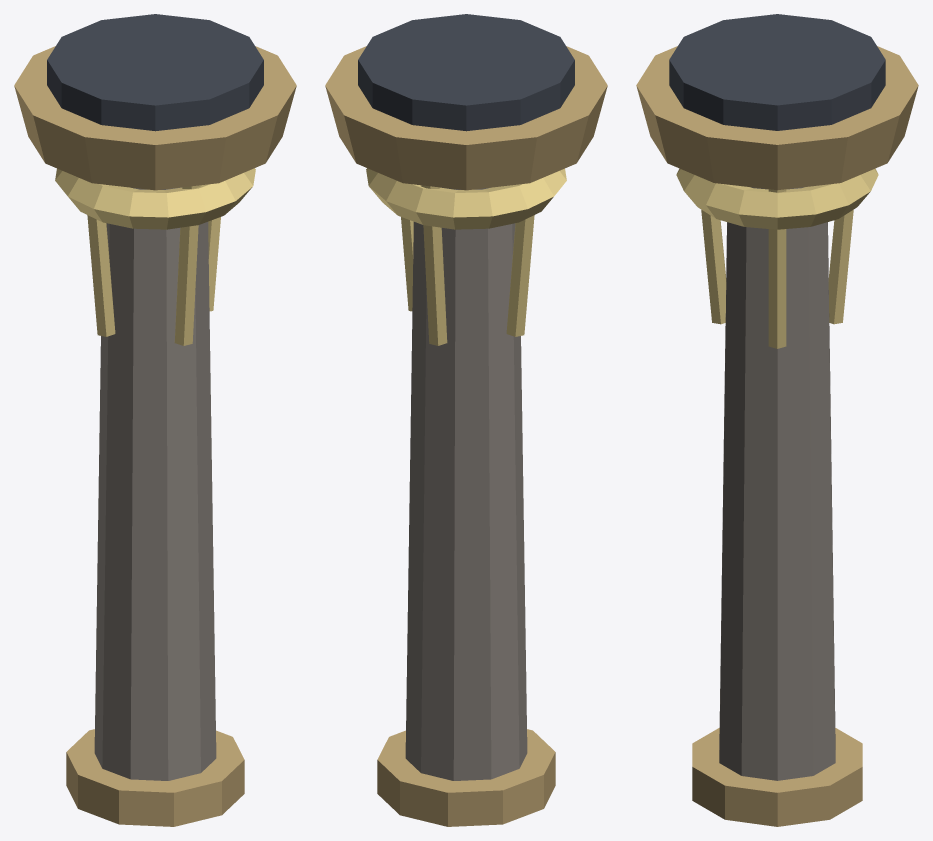
File: antorcha.glb
3 views of the same model, side by side, from view 1: azimuth 30°, elevation 25°; view 2: azimuth 150°, elevation 25°; view 3: azimuth 270°, elevation 25° (orthographic).
Visible parts, largest first — view 1: antorcha; view 2: antorcha; view 3: antorcha.
Part boxes in pixels (box(x1,y1,x2,y2)): antorcha: box(14, 14, 296, 826); antorcha: box(325, 14, 607, 826); antorcha: box(636, 14, 918, 826).
Size of the model in its own units: 0.6 by 1.71 by 0.6.
